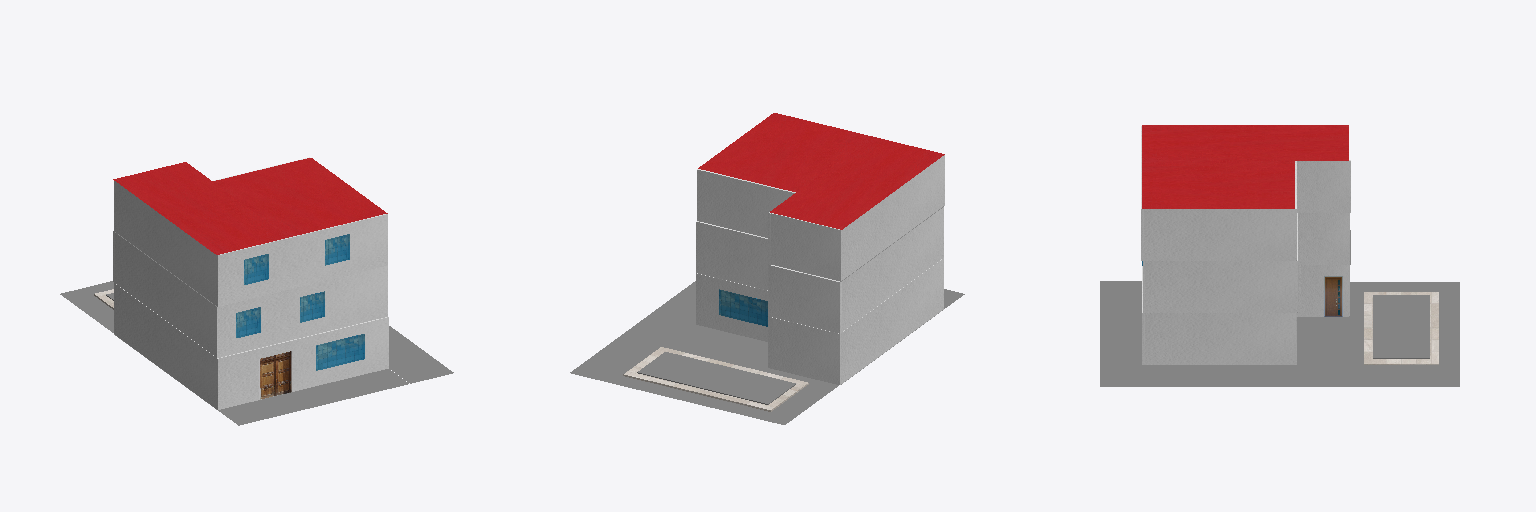
The picture shows the model from 3 angles: view 1: azimuth 30°, elevation 25°; view 2: azimuth 150°, elevation 25°; view 3: azimuth 270°, elevation 25°; orthographic projection.
Parts seen in each view (by area): view 1: Box022, Box031, Box067, Box068, Box013, Box008, Box026, Box020, Box003, Box074, Box060, Box069 (+5 smaller); view 2: Box067, Box068, Box075, Box008, Box020, Box026, Box015, Box028, Box030, Box078, Box010, Box017 (+5 smaller); view 3: Box019, Box027, Box009, Box075, Box068, Box067, Box074, Box078, Box003, Box016, Box029, Box076 (+3 smaller).
Part boxes in pixels (bbox=[...]): Box022: bbox=[218, 214, 387, 306]; Box031: bbox=[218, 266, 387, 357]; Box067: bbox=[212, 158, 387, 236]; Box068: bbox=[113, 162, 288, 254]; Box013: bbox=[218, 317, 388, 409]; Box008: bbox=[115, 284, 218, 409]; Box026: bbox=[115, 233, 217, 357]; Box020: bbox=[115, 181, 217, 306]; Box003: bbox=[218, 369, 408, 425]; Box074: bbox=[389, 326, 453, 383]; Box060: bbox=[259, 351, 291, 399]; Box069: bbox=[316, 334, 364, 370]; Box067: bbox=[698, 113, 872, 192]; Box068: bbox=[770, 137, 944, 229]; Box075: bbox=[570, 313, 767, 407]; Box008: bbox=[841, 258, 943, 383]; Box020: bbox=[842, 155, 944, 279]; Box026: bbox=[839, 207, 943, 331]; Box015: bbox=[697, 169, 795, 237]; Box028: bbox=[769, 265, 841, 333]; Box030: bbox=[696, 221, 767, 289]; Box078: bbox=[637, 352, 795, 404]; Box010: bbox=[769, 317, 840, 384]; Box017: bbox=[771, 213, 841, 281]; Box019: bbox=[1144, 209, 1295, 260]; Box027: bbox=[1145, 261, 1296, 312]; Box009: bbox=[1145, 313, 1295, 364]; Box075: bbox=[1297, 317, 1459, 386]; Box068: bbox=[1142, 125, 1348, 160]; Box067: bbox=[1142, 160, 1294, 208]; Box074: bbox=[1100, 365, 1296, 386]; Box078: bbox=[1373, 295, 1429, 358]; Box003: bbox=[1100, 281, 1141, 364]; Box016: bbox=[1297, 160, 1350, 212]; Box029: bbox=[1298, 213, 1349, 264]; Box076: bbox=[1349, 282, 1459, 317].
Bounding box in the file's own units: 132 × 90.68 × 190.
12 materials, 6 textured.